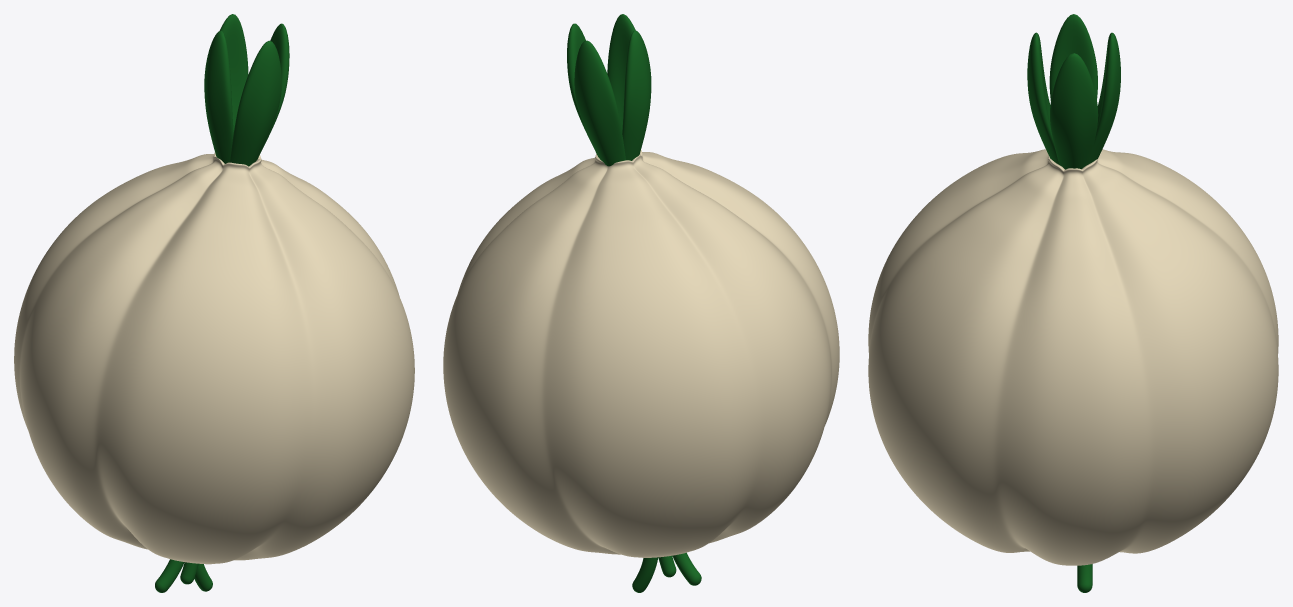
File: white onion.fbx
The picture shows the model from 3 angles, left to right: view 1: azimuth 30°, elevation 25°; view 2: azimuth 150°, elevation 25°; view 3: azimuth 270°, elevation 25°; orthographic projection. The views are drawn at different scales.
Parts seen in each view (by area): view 1: Sphere.003, Cube.001, Cube.003, Cube.002, Cube, NurbsPath; view 2: Sphere.003, Cube.002, Cube.003, Cube.001, Cube, NurbsPath.002, NurbsPath; view 3: Sphere.003, Cube, Cube.002, Cube.001, Cube.003.
Boxes of the visible parts, x1=… form: Sphere.003: x1=14, y1=152, x2=414, y2=564; Cube.001: x1=230, y1=40, x2=281, y2=166; Cube.003: x1=204, y1=31, x2=233, y2=163; Cube.002: x1=219, y1=14, x2=248, y2=131; Cube: x1=256, y1=23, x2=289, y2=160; NurbsPath: x1=155, y1=559, x2=184, y2=592; Sphere.003: x1=443, y1=150, x2=839, y2=557; Cube.002: x1=574, y1=40, x2=625, y2=166; Cube.003: x1=622, y1=30, x2=651, y2=160; Cube.001: x1=607, y1=14, x2=635, y2=132; Cube: x1=567, y1=23, x2=598, y2=157; NurbsPath.002: x1=632, y1=557, x2=658, y2=592; NurbsPath: x1=672, y1=552, x2=701, y2=585; Sphere.003: x1=868, y1=149, x2=1278, y2=565; Cube: x1=1050, y1=53, x2=1098, y2=169; Cube.002: x1=1089, y1=32, x2=1120, y2=163; Cube.001: x1=1027, y1=32, x2=1059, y2=164; Cube.003: x1=1049, y1=14, x2=1097, y2=100.
Size of the model in its own units: 157 by 241 by 154.
